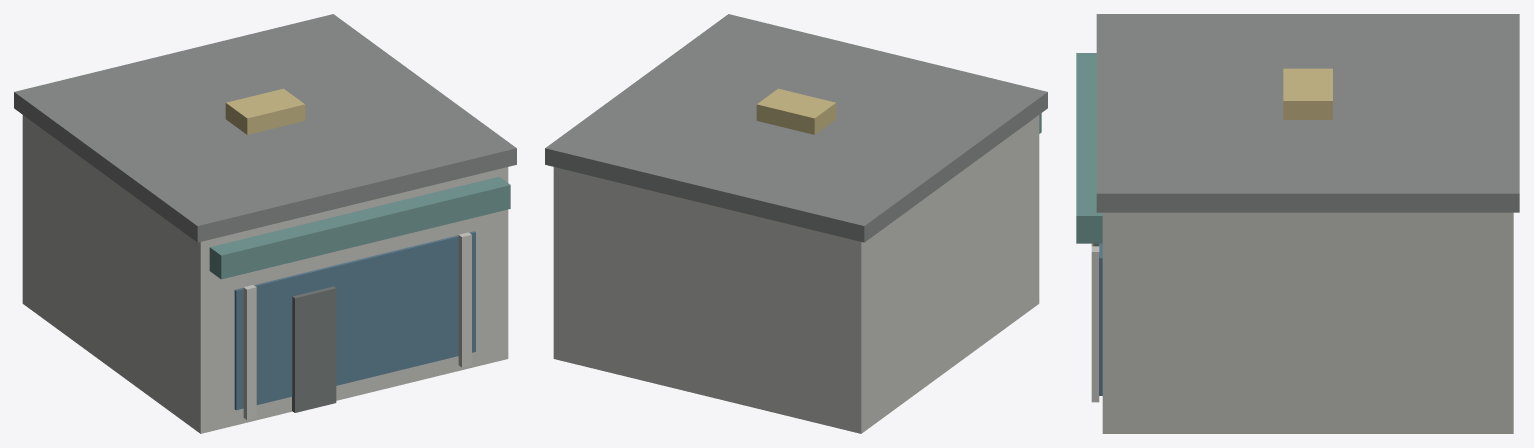
The model's file is shop_2x2.glb.
The picture shows the model from 3 angles, left to right: view 1: azimuth 30°, elevation 25°; view 2: azimuth 150°, elevation 25°; view 3: azimuth 270°, elevation 25°; orthographic projection. The views are drawn at different scales.
Parts seen in each view (by area): view 1: shop_2x2; view 2: shop_2x2; view 3: shop_2x2.
Part boxes in pixels (left/top/right/bottom): shop_2x2: left=14, top=14, right=516, bottom=433; shop_2x2: left=545, top=14, right=1047, bottom=433; shop_2x2: left=1076, top=14, right=1519, bottom=433.
Size of the model in its own units: 3.64 by 2.48 by 3.8.
